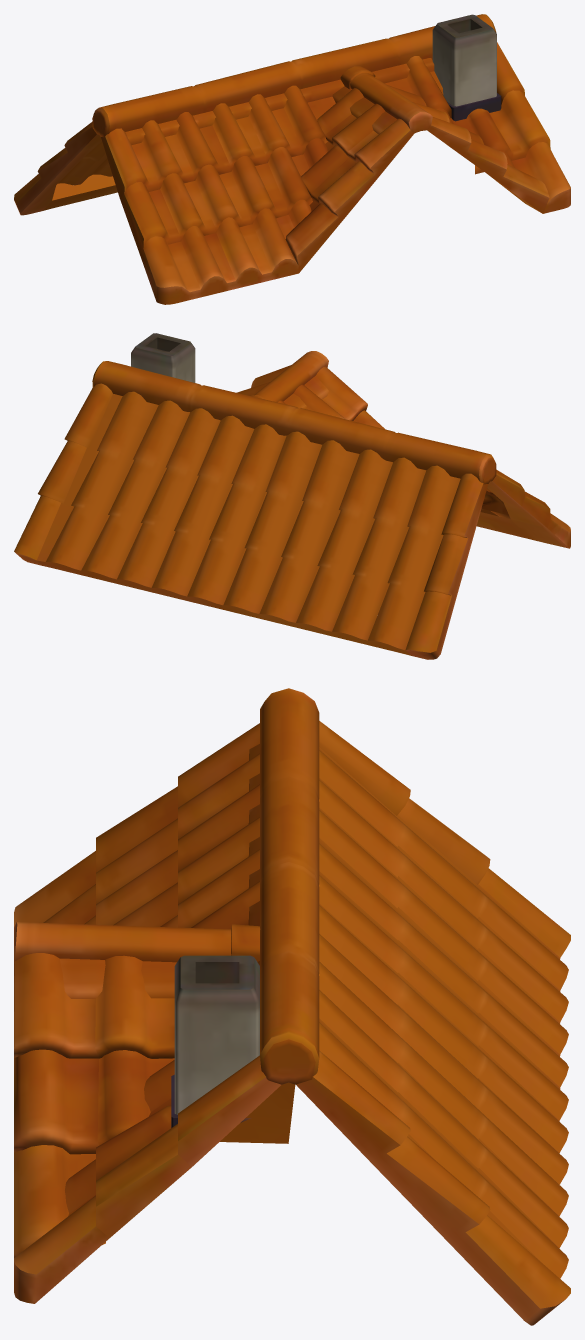
The model's file is roof-na-tile.glb.
3 renders of one model, top to bottom at view 1: azimuth 30°, elevation 25°; view 2: azimuth 150°, elevation 25°; view 3: azimuth 270°, elevation 25°, orthographic. The views are drawn at different scales.
Bounding box in the file's own units: 40.56 × 15.33 × 25.3.
1 material, 1 textured.
